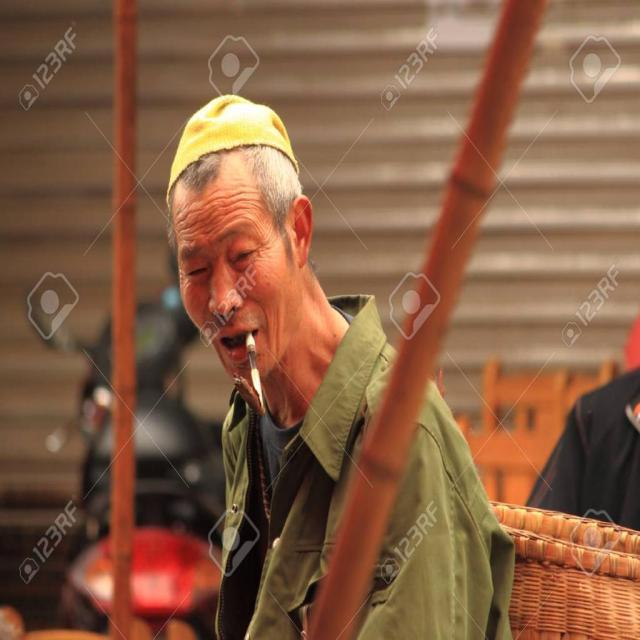smoking: (159, 95, 303, 416)
